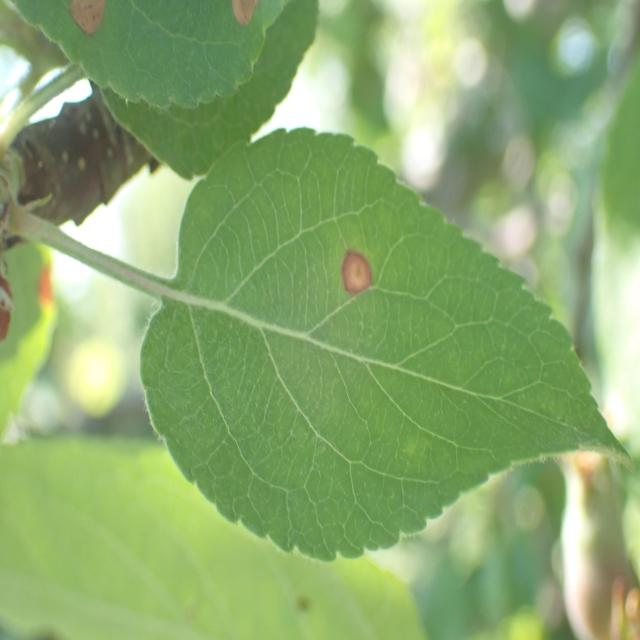Black Rot: (333, 230, 381, 319), (65, 0, 124, 51), (210, 0, 268, 42)
